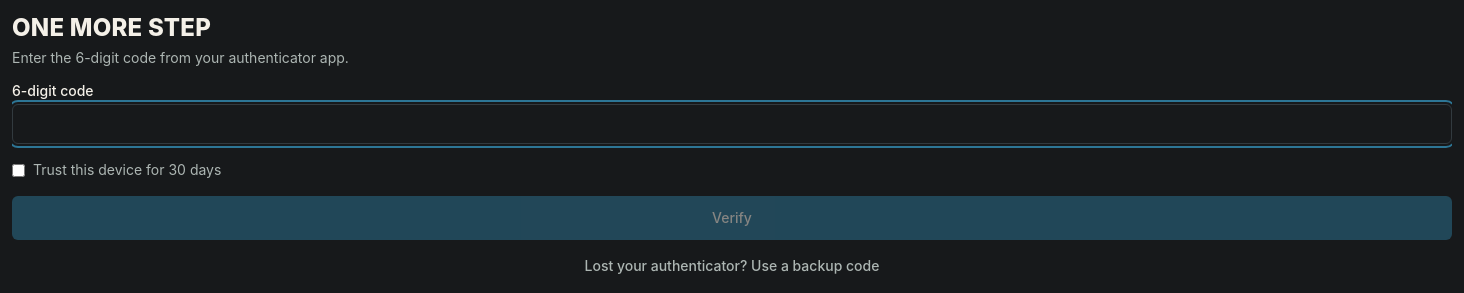
Test: backup mode › keeps non-digits and enables Verify on any non-empty value
Click the button "Lost your authenticator? Use a backup code" at (732, 266), box [12, 256, 1452, 276]
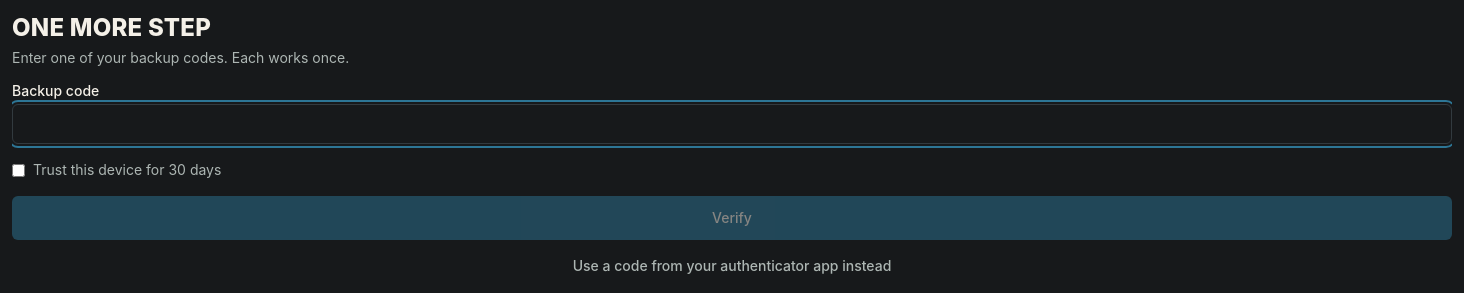
Expected: the button "Verify" is disabled, [12, 196, 1452, 240]
Type "  a1b2-c3d4  " into the field labelled "Backup code" at (732, 124), box [12, 104, 1452, 144]
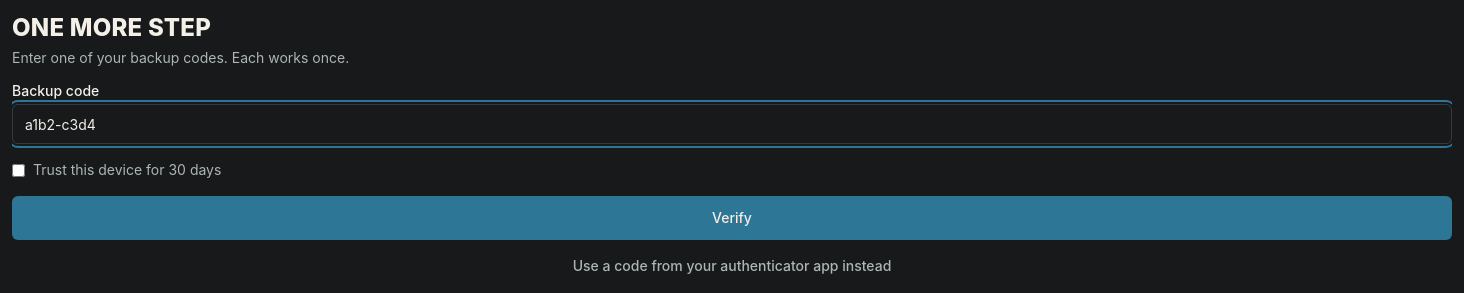
Now the button "Verify" is enabled, box [12, 196, 1452, 240]
